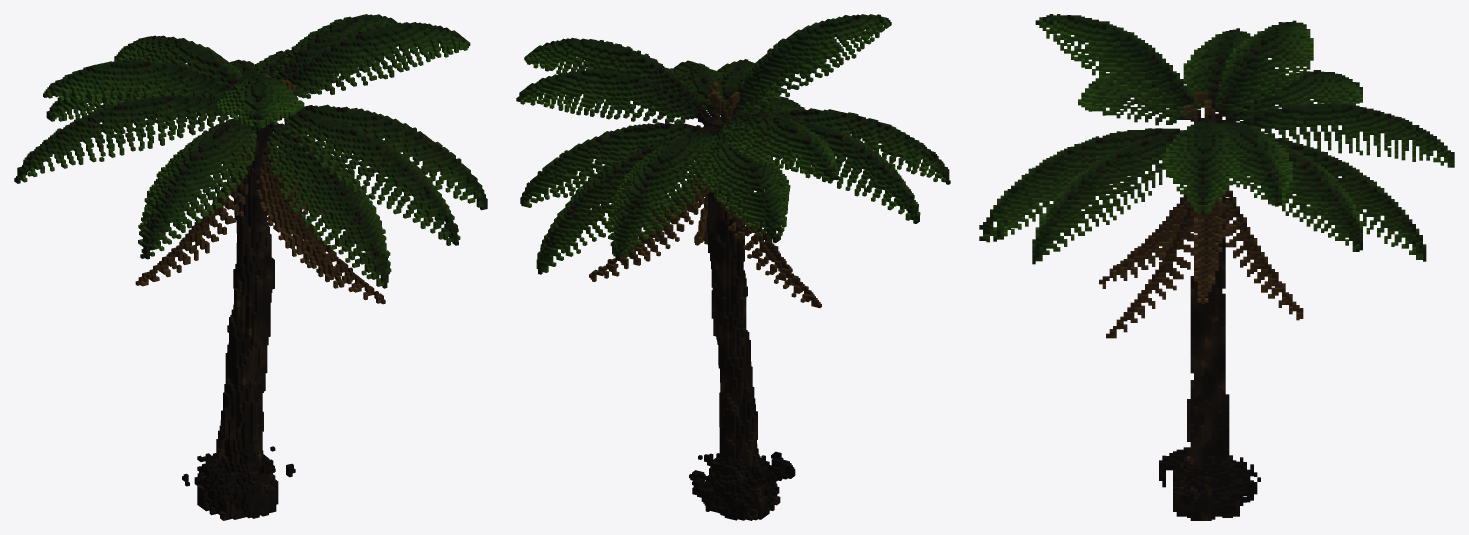
The model's file is samambaia_arborea_01_LOD0.fbx.
3 views of the same model, side by side, from view 1: azimuth 30°, elevation 25°; view 2: azimuth 150°, elevation 25°; view 3: azimuth 270°, elevation 25° (orthographic). The views are drawn at different scales.
Parts seen in each view (by area): view 1: samambaia_arborea_01_LOD0; view 2: samambaia_arborea_01_LOD0; view 3: samambaia_arborea_01_LOD0.
Part boxes in pixels (x1=…): samambaia_arborea_01_LOD0: x1=14, y1=14, x2=487, y2=520; samambaia_arborea_01_LOD0: x1=516, y1=14, x2=950, y2=520; samambaia_arborea_01_LOD0: x1=979, y1=14, x2=1454, y2=520.
Size of the model in its own units: 438 by 456 by 422.
